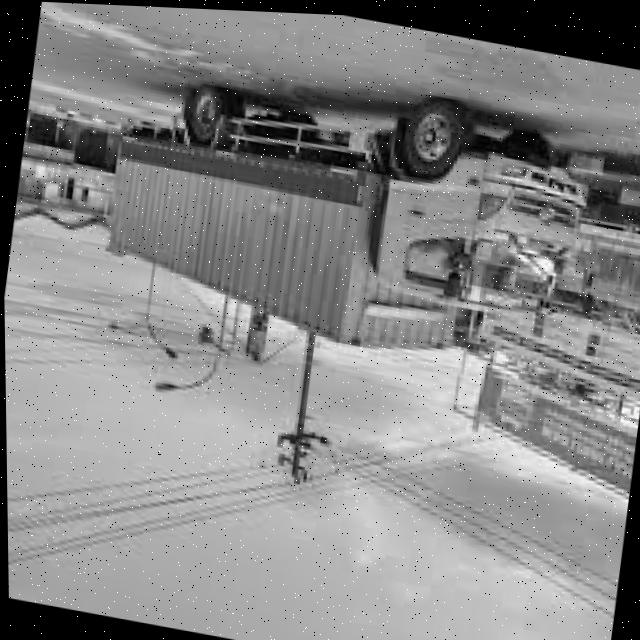truck: (345, 75, 613, 342)
